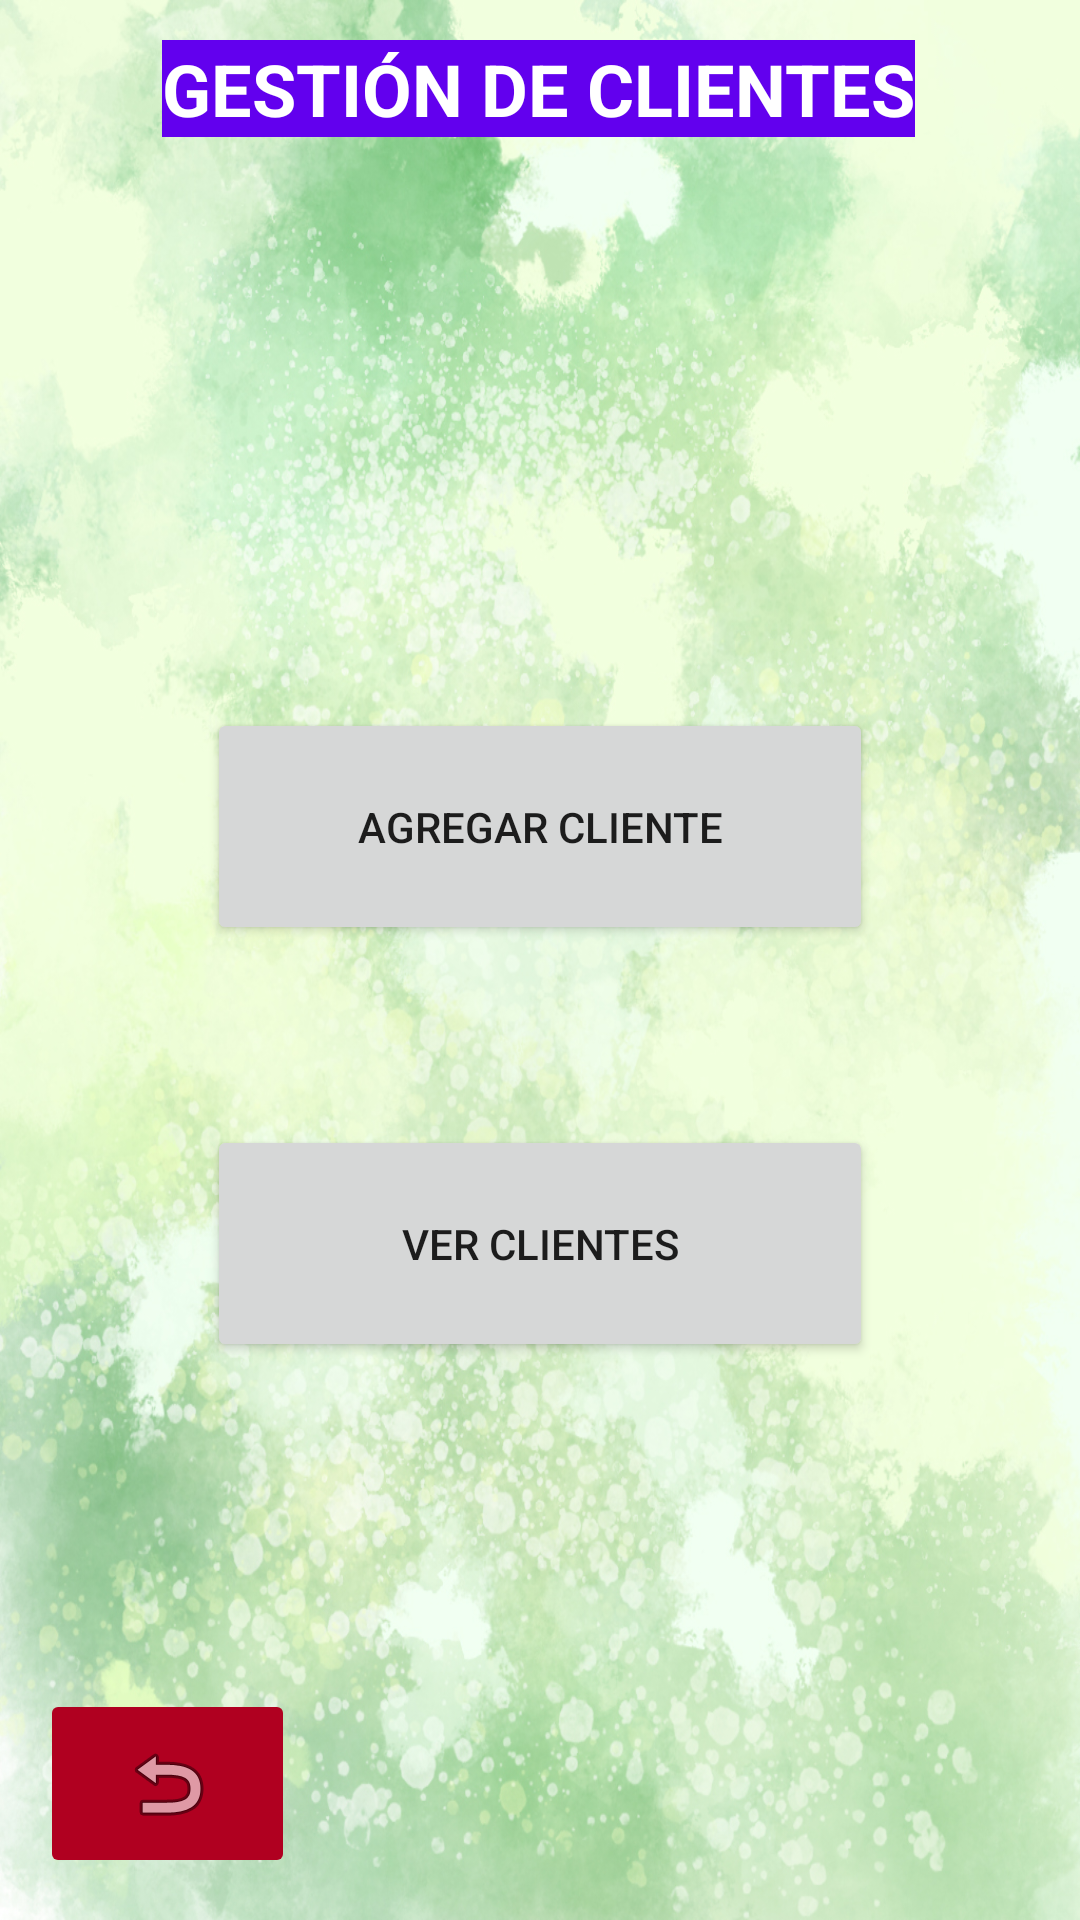

Named icons in this screenshot (1080px x 1920px) and their centers, [x,y]:
Volver: [167,1783]
